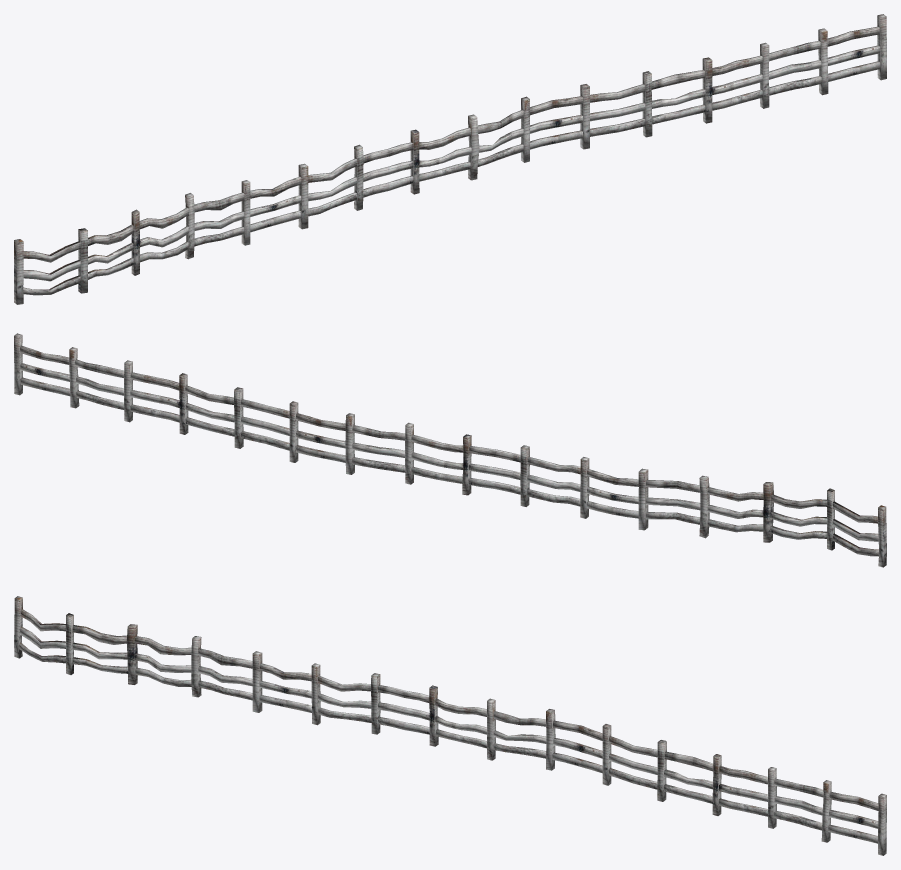
The model's file is Valla.fbx.
The picture shows the model from 3 angles, top to bottom: view 1: azimuth 30°, elevation 25°; view 2: azimuth 150°, elevation 25°; view 3: azimuth 330°, elevation 25°; orthographic projection. The views are drawn at different scales.
Parts seen in each view (by area): view 1: Cube.030; view 2: Cube.030; view 3: Cube.030.
Part boxes in pixels (<box>): Cube.030: <box>14,14,886,304</box>; Cube.030: <box>14,333,886,567</box>; Cube.030: <box>14,596,886,855</box>.
Size of the model in its own units: 3021 by 244 by 232.
1 material, 1 textured.
